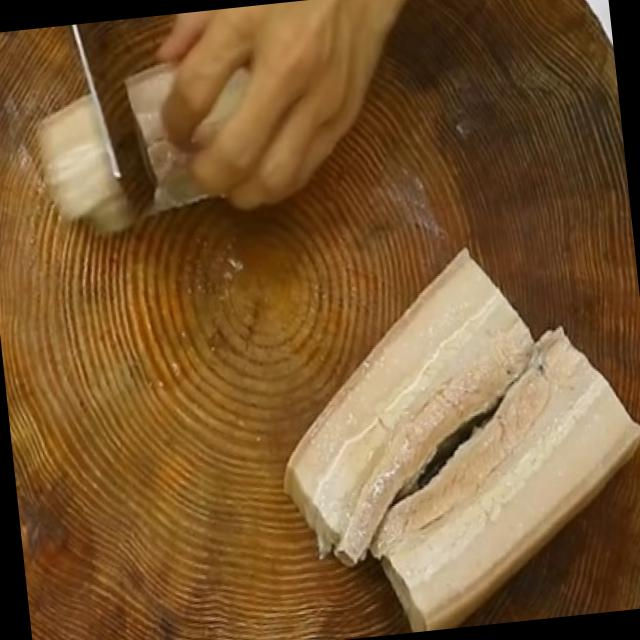--: (369, 329, 639, 628), (285, 250, 535, 552)
